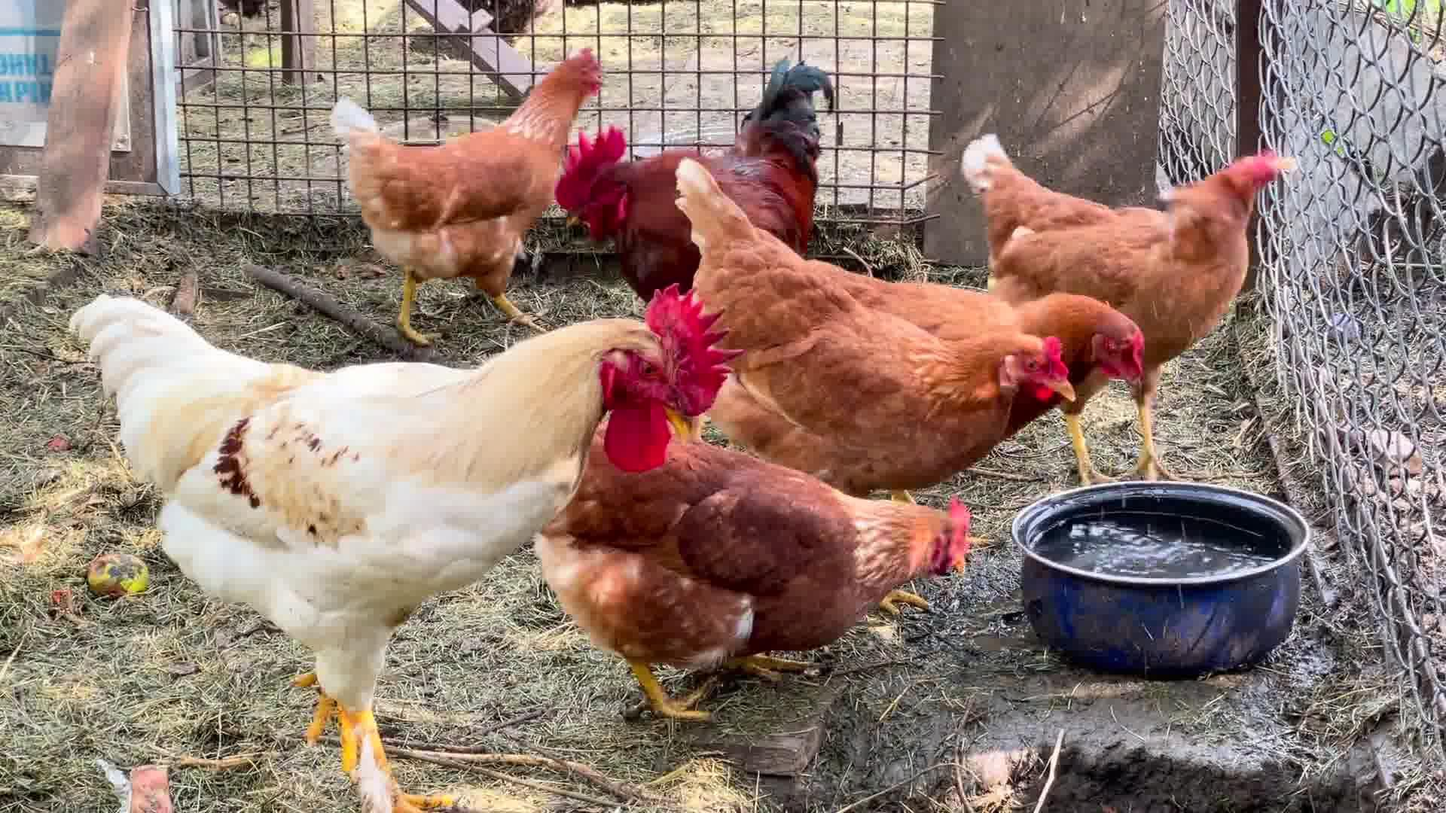Normal: (79, 285, 731, 813), (663, 149, 1173, 496), (959, 121, 1299, 515), (637, 413, 984, 767), (309, 49, 591, 333), (567, 59, 869, 312), (614, 94, 856, 285), (904, 264, 1192, 413)
